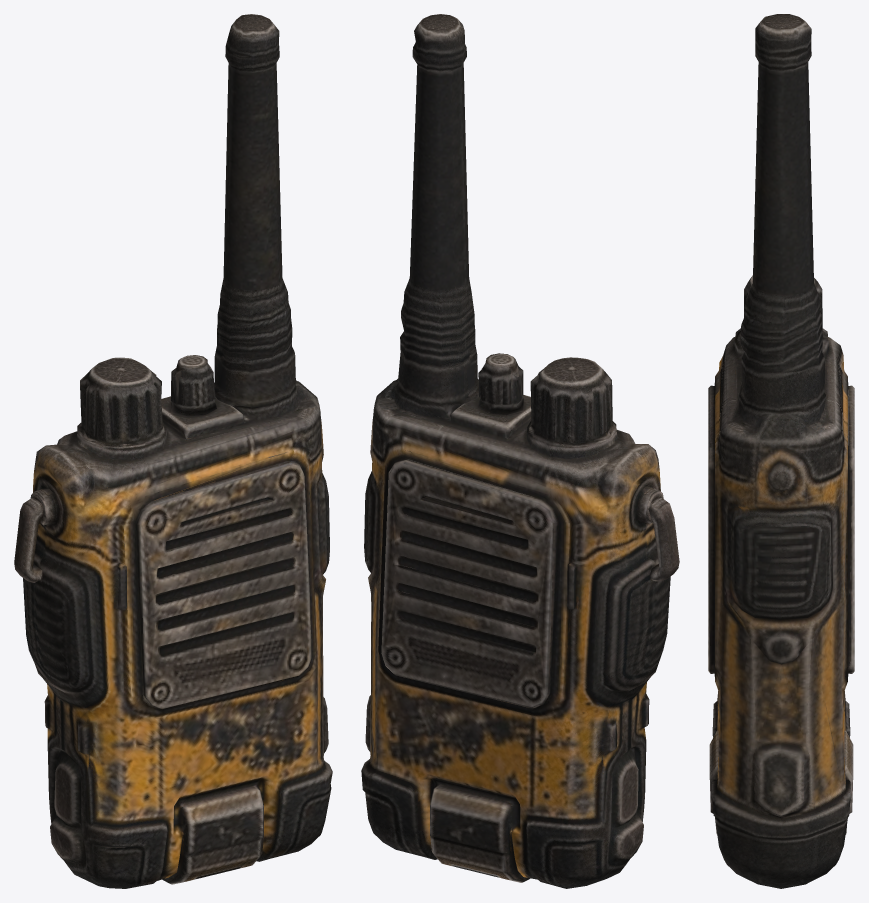
File: radio.glb
3 views of the same model, side by side, from view 1: azimuth 30°, elevation 25°; view 2: azimuth 150°, elevation 25°; view 3: azimuth 270°, elevation 25° (orthographic). The views are drawn at different scales.
Bounding box in the file's own units: 0.3628 × 0.9521 × 0.1479.
Materials: 1 (1 with a texture image).
